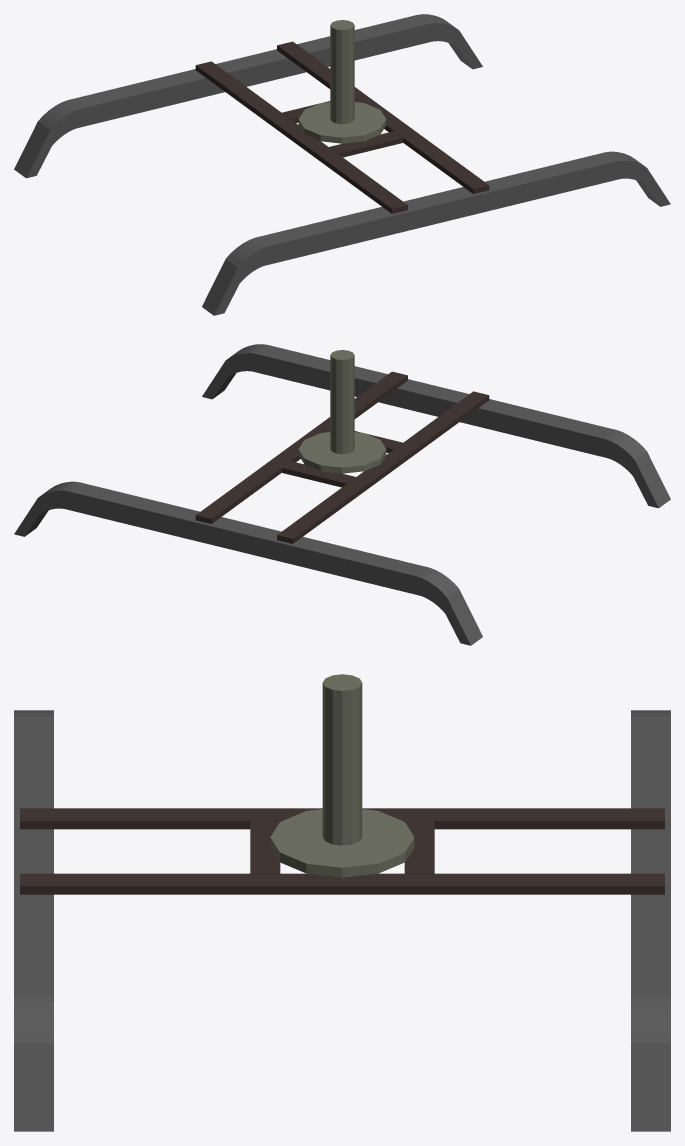
The model's file is RoofRack_2.fbx.
The picture shows the model from 3 angles, top to bottom: view 1: azimuth 30°, elevation 25°; view 2: azimuth 150°, elevation 25°; view 3: azimuth 270°, elevation 25°; orthographic projection. The views are drawn at different scales.
Visible parts, largest first — view 1: Rack; view 2: Rack; view 3: Rack.
Boxes of the visible parts, bbox=[...] form: Rack: bbox=[14, 14, 670, 315]; Rack: bbox=[14, 344, 670, 645]; Rack: bbox=[14, 674, 670, 1131].
Bounding box in the file's own units: 1.12 × 0.3805 × 0.8519.
